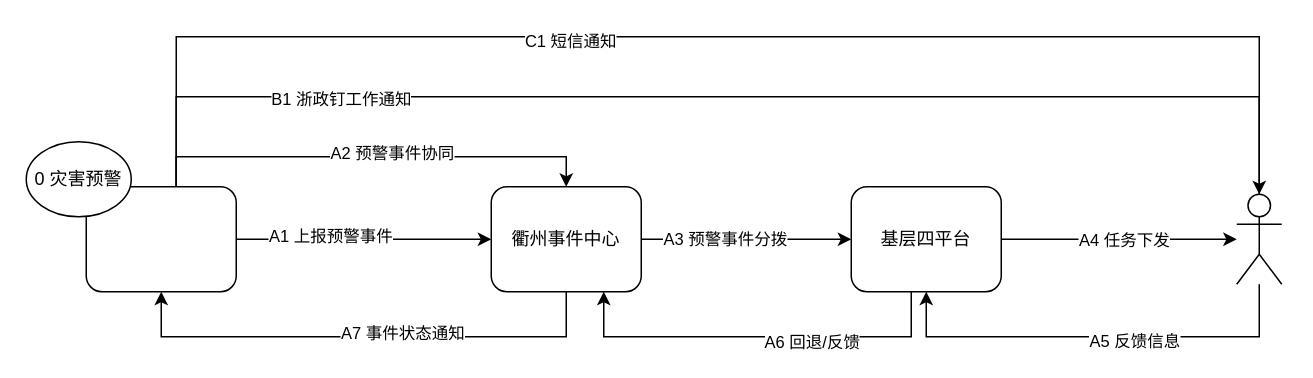
This 1313x378 diagram has some shape labels left out. Each missing label, with the centre of its shape:
"柯城地灾平台" belongs at point 160,238.
"网格员" belongs at point 1258,238.
